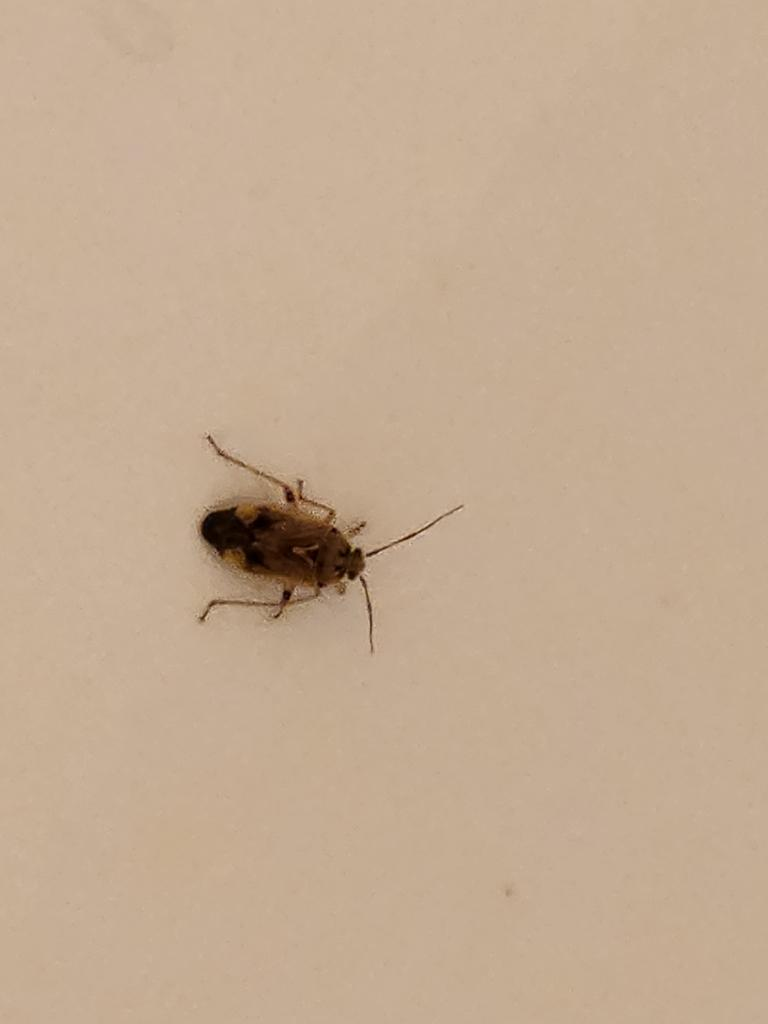plant_bugs: (140, 409, 490, 691)
